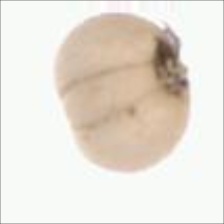L5: (58, 61, 156, 133), (151, 17, 191, 102)
L6: (53, 11, 192, 174)
